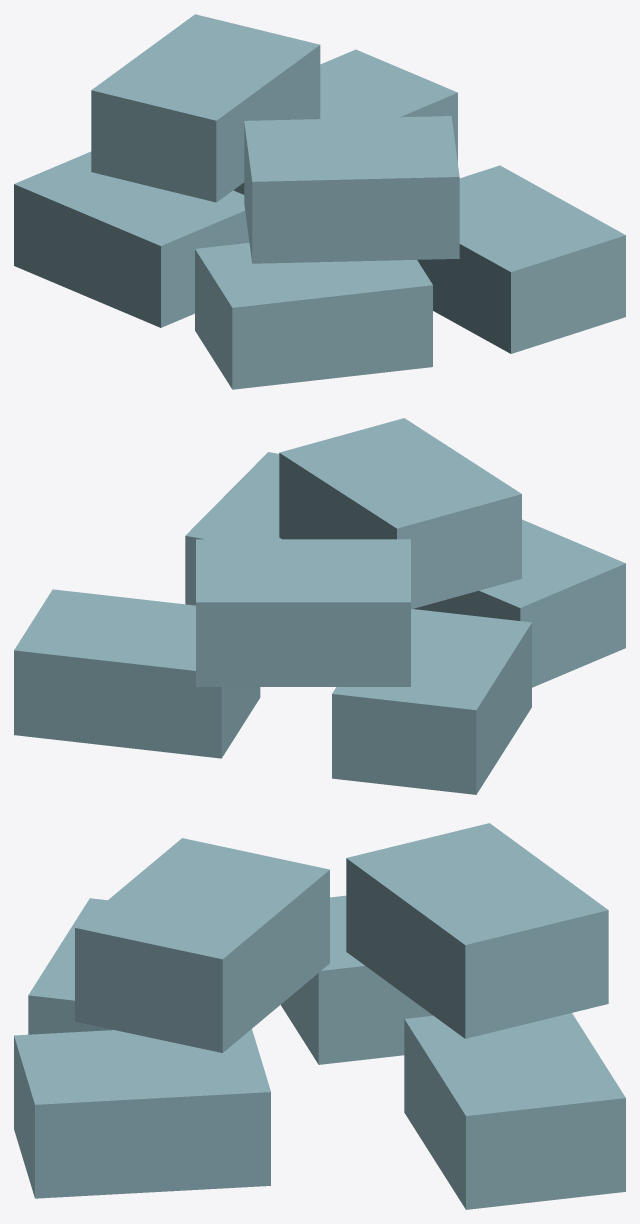
Rendered from debris.fbx.
3 renders of one model, top to bottom at view 1: azimuth 30°, elevation 25°; view 2: azimuth 150°, elevation 25°; view 3: azimuth 270°, elevation 25°, orthographic. The views are drawn at different scales.
Parts seen in each view (by area): view 1: debris; view 2: debris; view 3: debris.
Boxes of the visible parts, bbox=[...] form: debris: bbox=[14, 14, 625, 389]; debris: bbox=[14, 418, 625, 794]; debris: bbox=[14, 823, 625, 1209].
Bounding box in the file's own units: 4.36 × 1.6 × 4.73.
